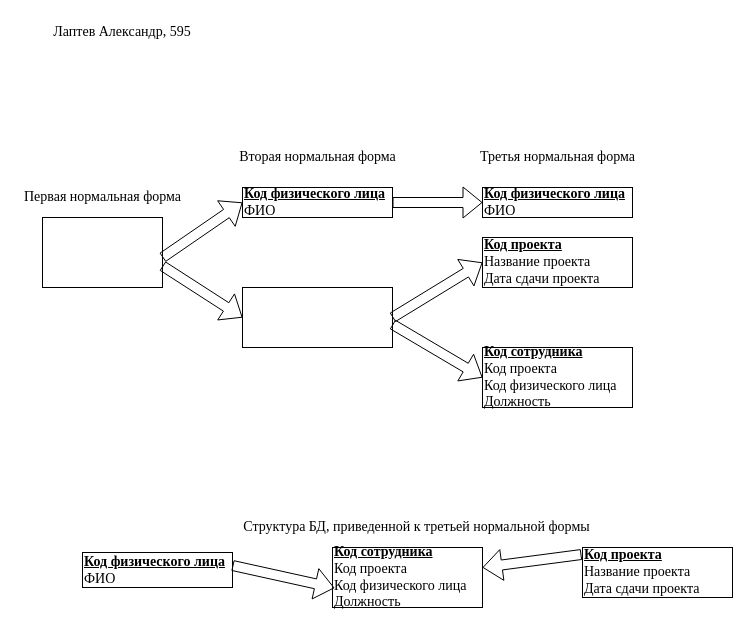
The diagram is 750 pixels wide and 628 high, and some of its shapes have lost their labels. The shapes that lost their labels are listed below. From the top down, each one's centre as x and y in pixels, then its label:
At (102,252): "Код сотрудника ФИО Должность Проект".
At (317,317): "Код сотрудника Код физического лица Должность Проект".
